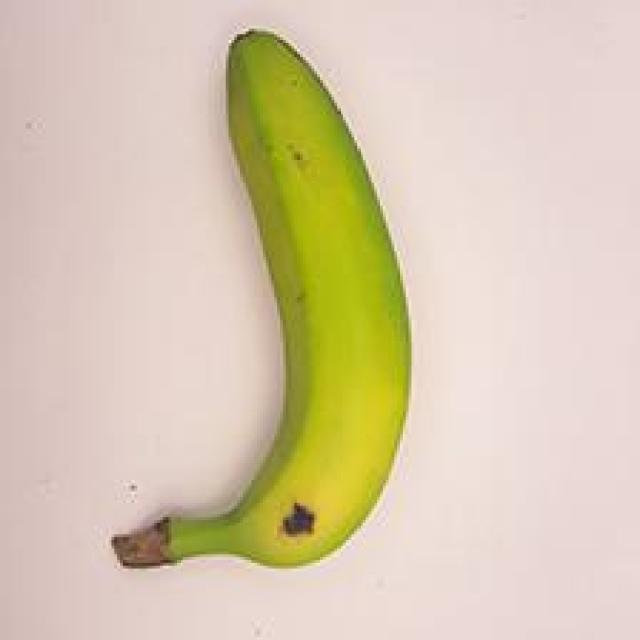Unripe: (71, 21, 436, 614)
